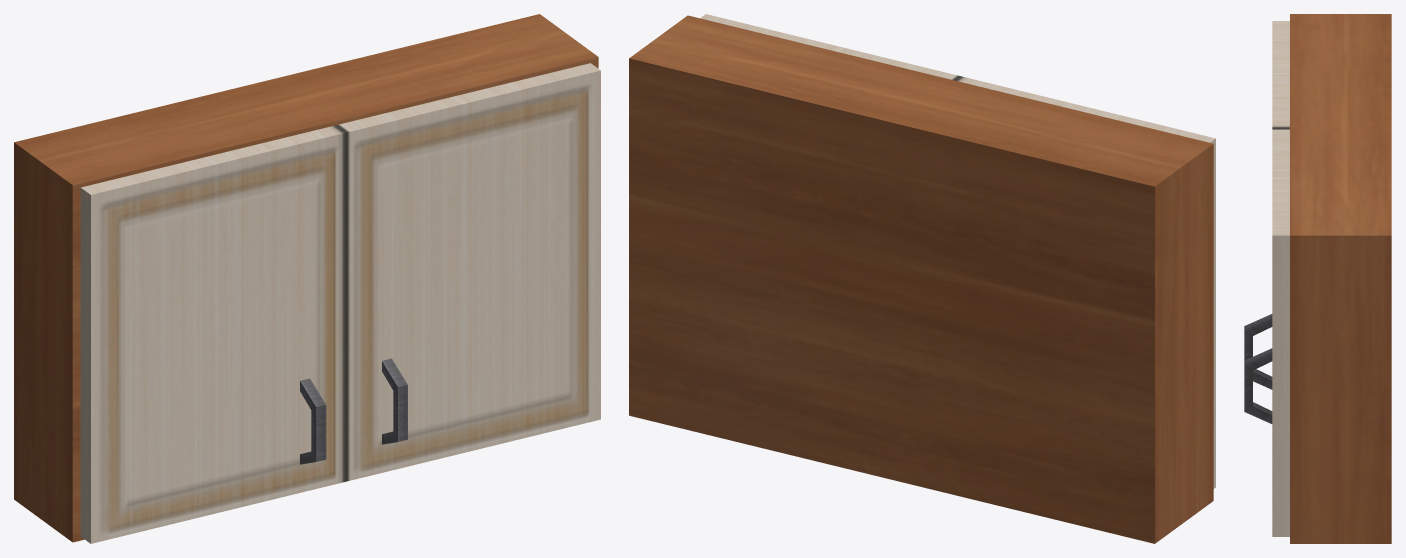
The model's file is Cupboard_2_1.fbx.
3 renders of one model, left to right at view 1: azimuth 30°, elevation 25°; view 2: azimuth 150°, elevation 25°; view 3: azimuth 270°, elevation 25°, orthographic. The views are drawn at different scales.
Parts seen in each view (by area): view 1: polySurface1494; view 2: polySurface1494; view 3: polySurface1494.
Part boxes in pixels (x1=…): polySurface1494: x1=14, y1=14, x2=600, y2=543; polySurface1494: x1=629, y1=14, x2=1215, y2=543; polySurface1494: x1=1244, y1=14, x2=1391, y2=543.
Size of the model in its own units: 1.8 by 1.17 by 0.5055.
